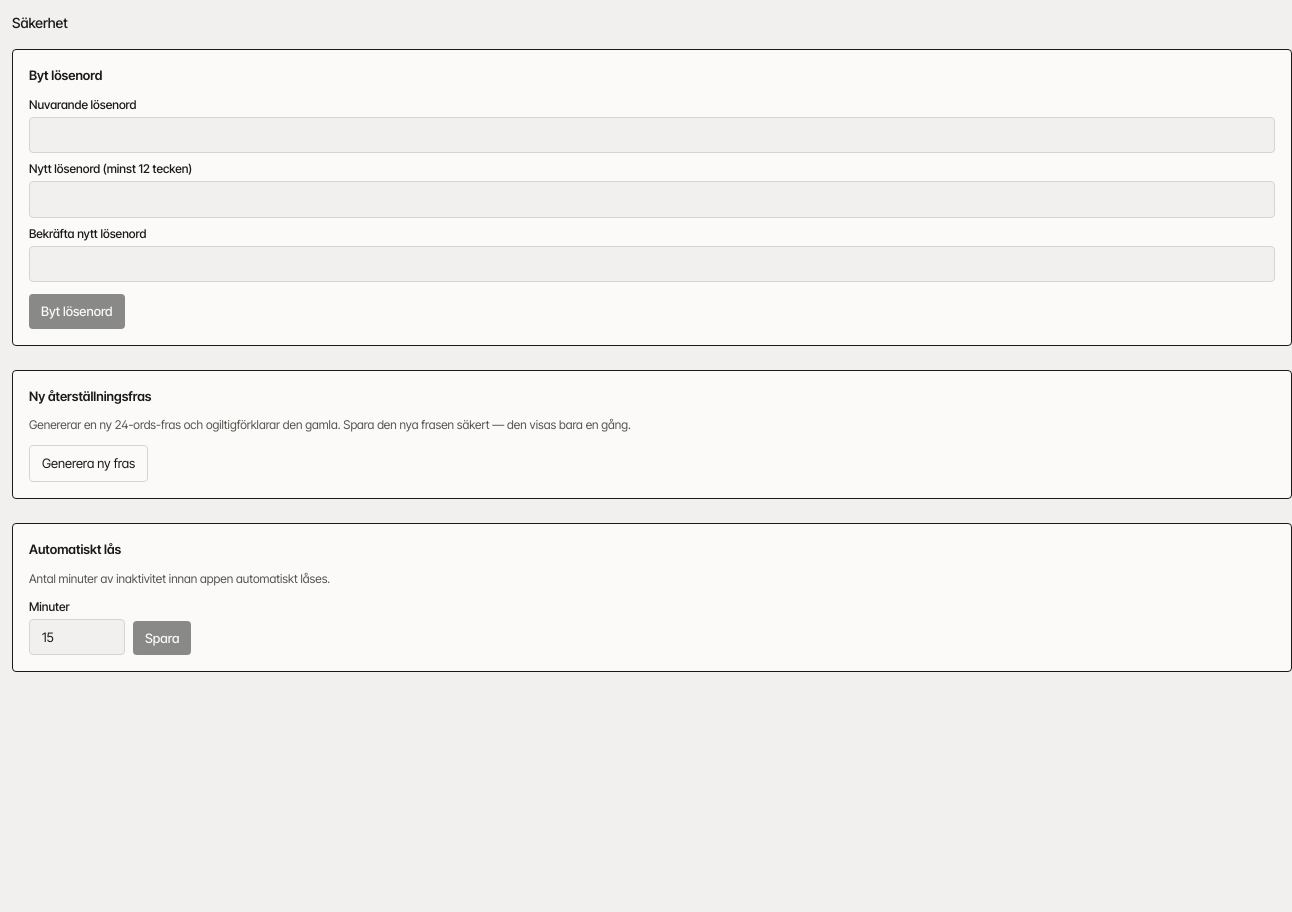
it: SecuritySection — change password › surfaces weak-password error from backend
The width and height of the screenshot is (1292, 912).
In the password field with test id "settings-old-password": (652, 135) [29,117,1275,153], type "old-password-12345"
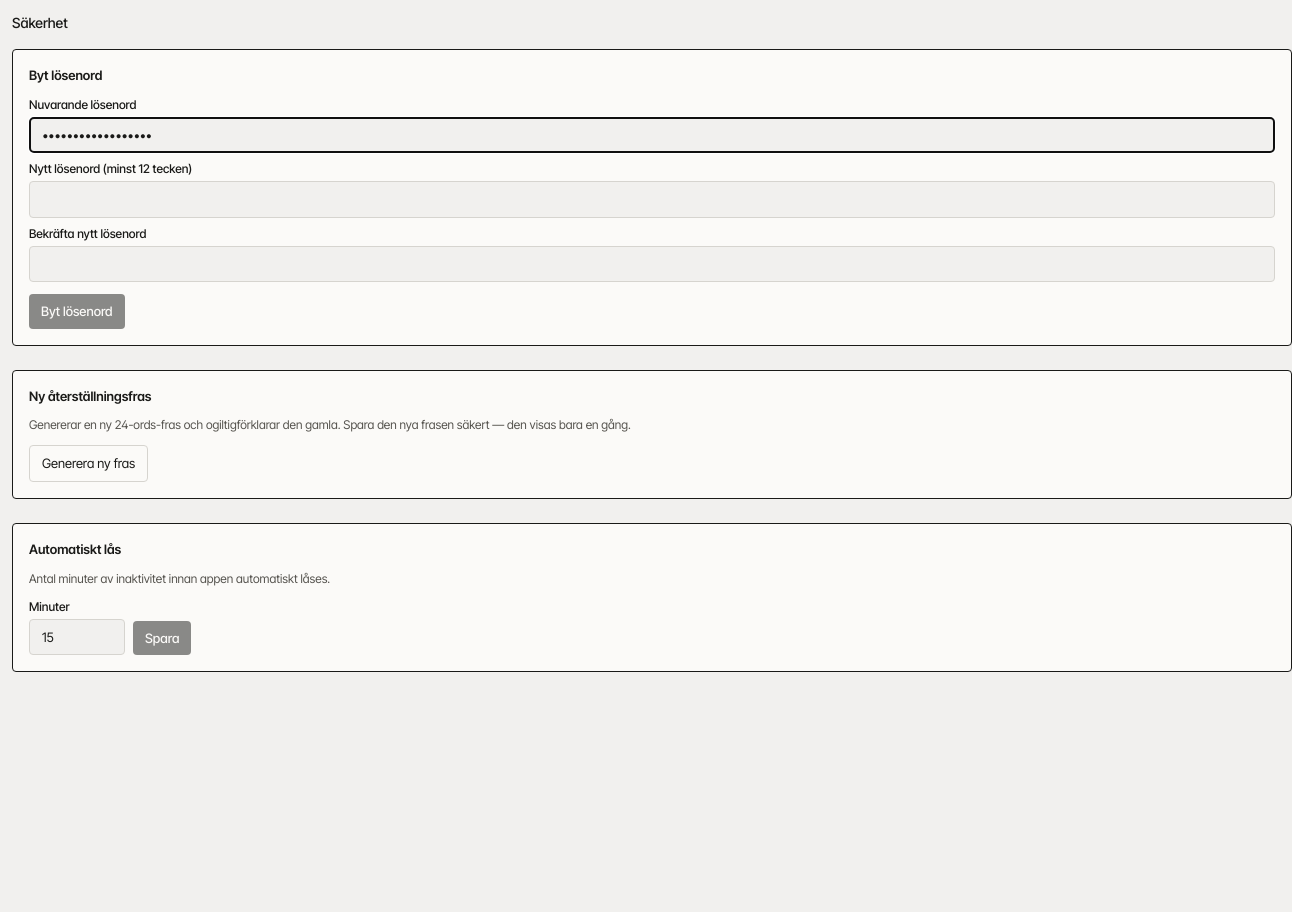
In the password field with test id "settings-new-password": (652, 199) [29,181,1275,218], type "short"
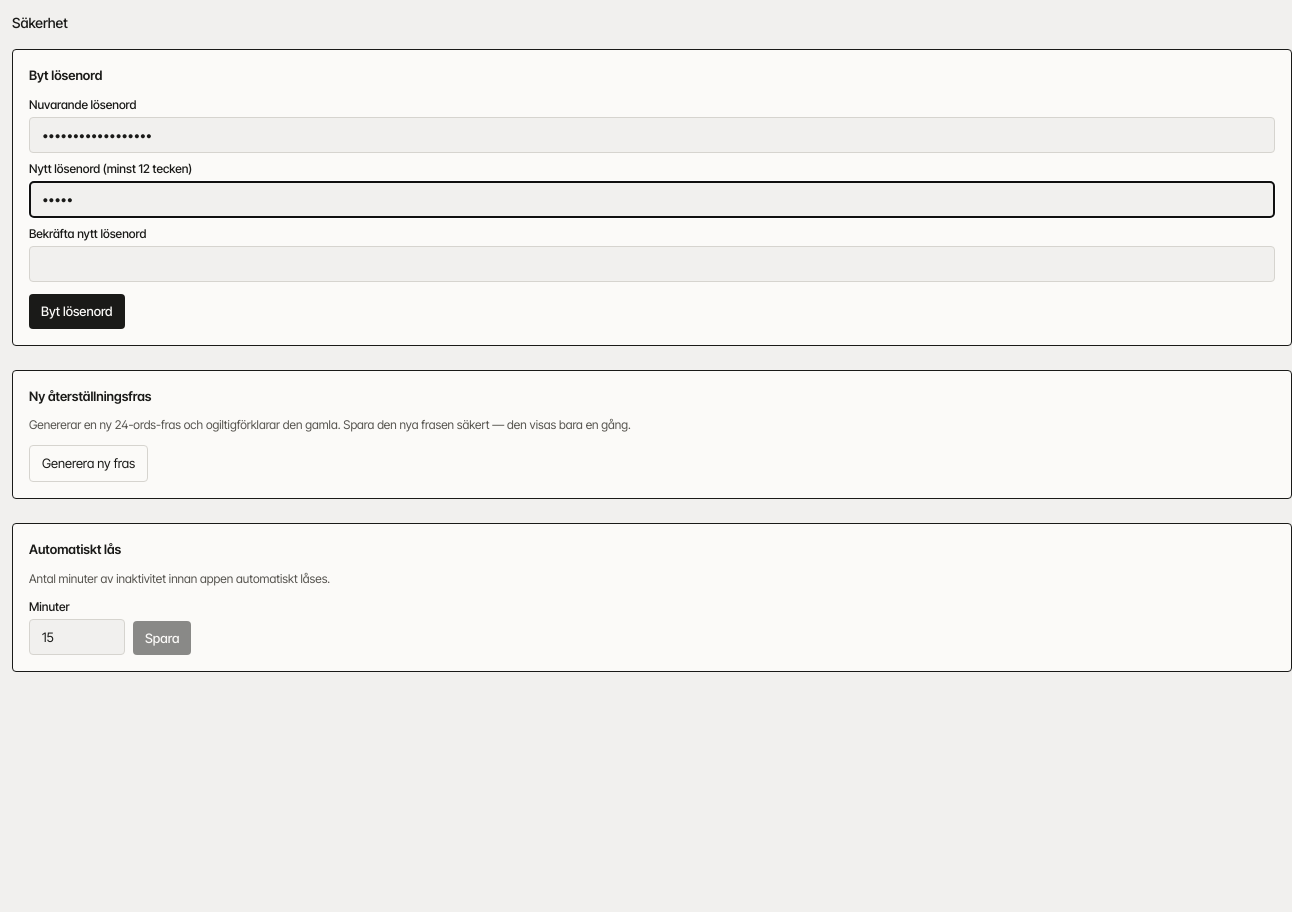
In the password field with test id "settings-confirm-password": (652, 264) [29,246,1275,282], type "short"
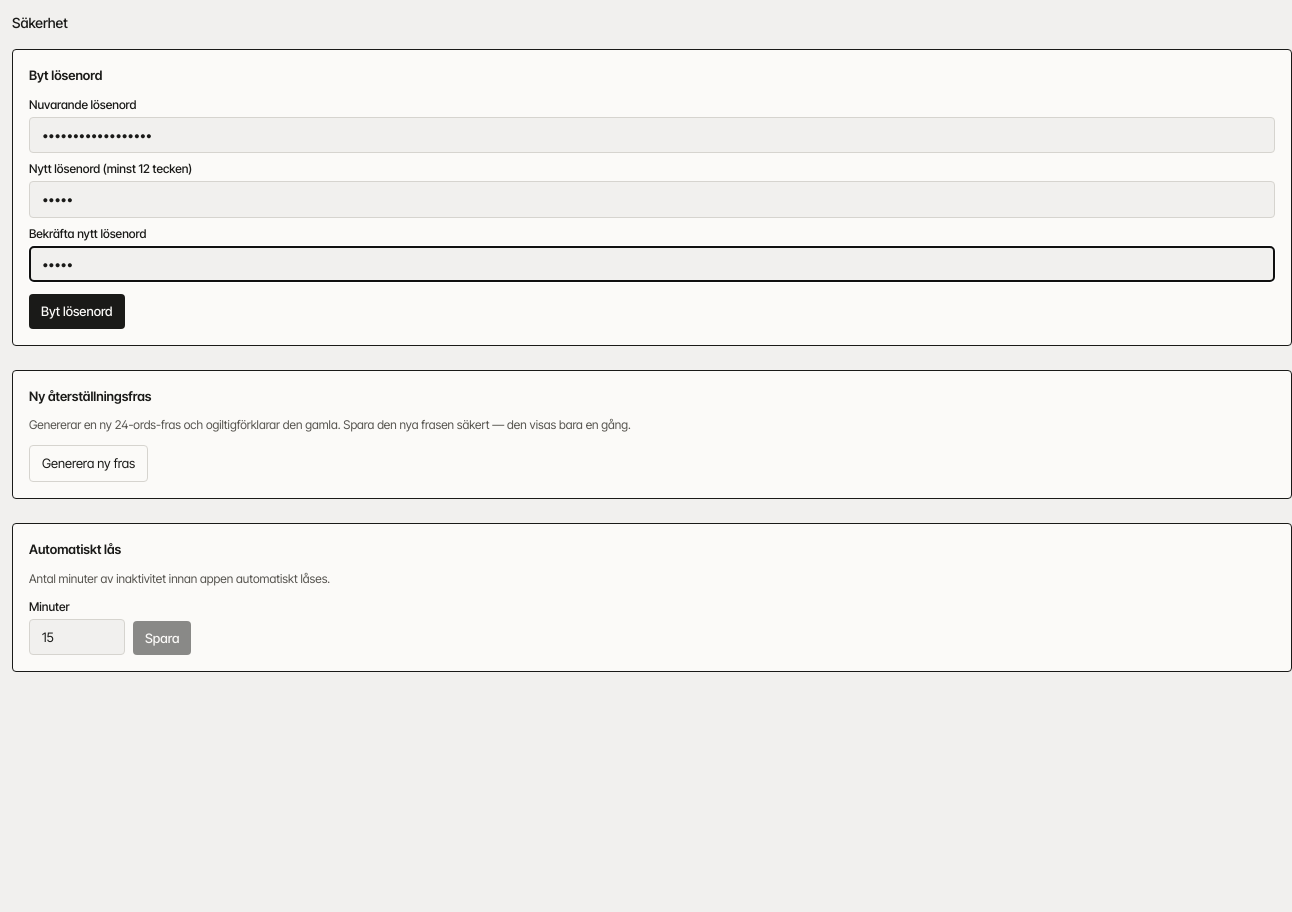
Click the button with test id "settings-change-password-submit": (77, 312) [29,294,125,329]
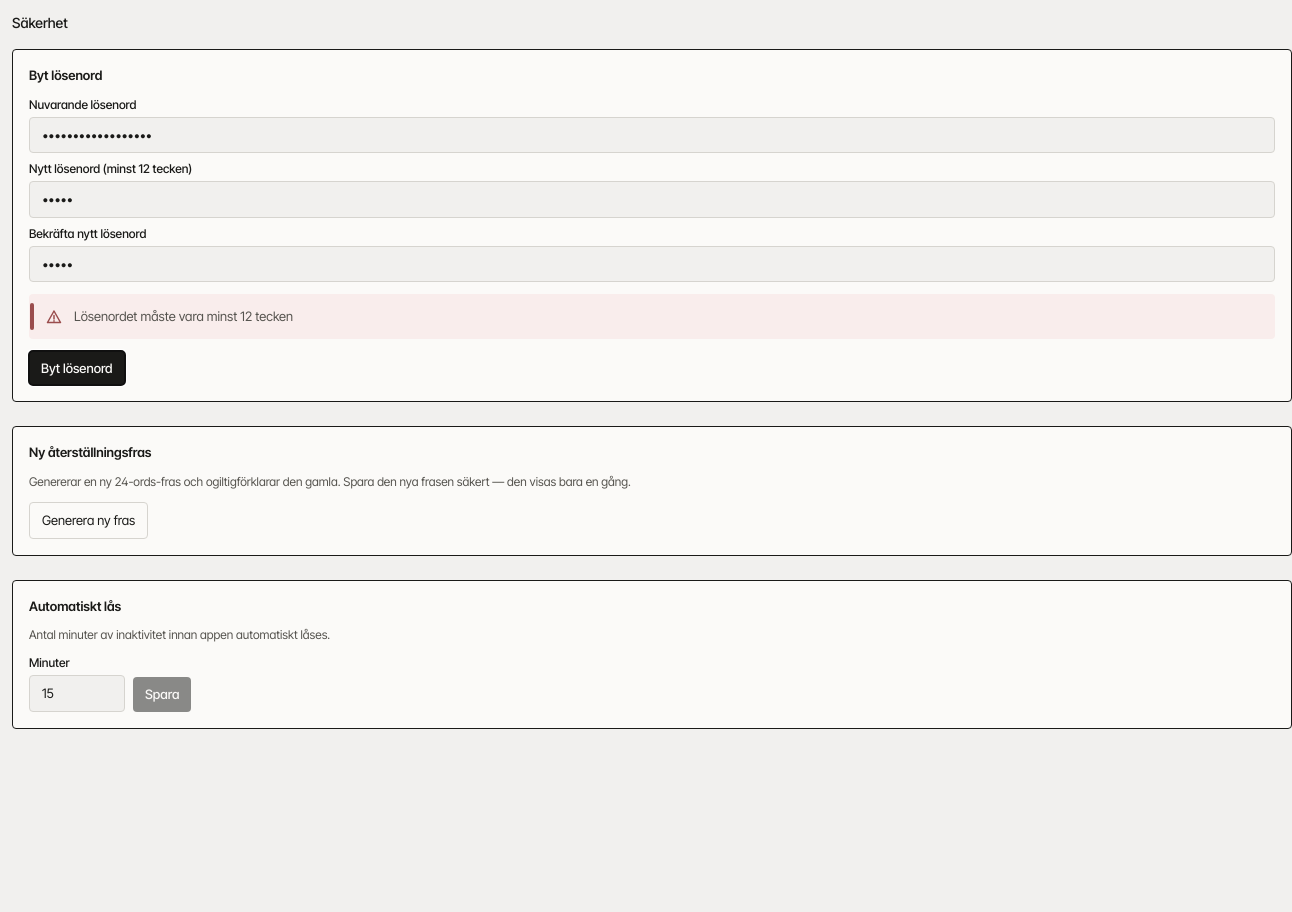
Expected: the message shows "12 tecken", [74,308,293,324]
